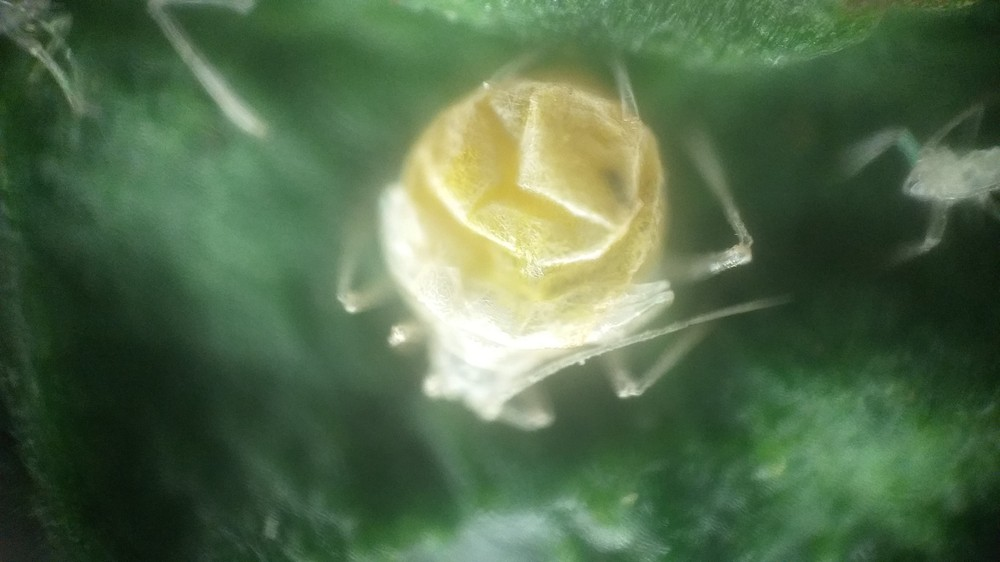Pulgon: (315, 52, 806, 476)
